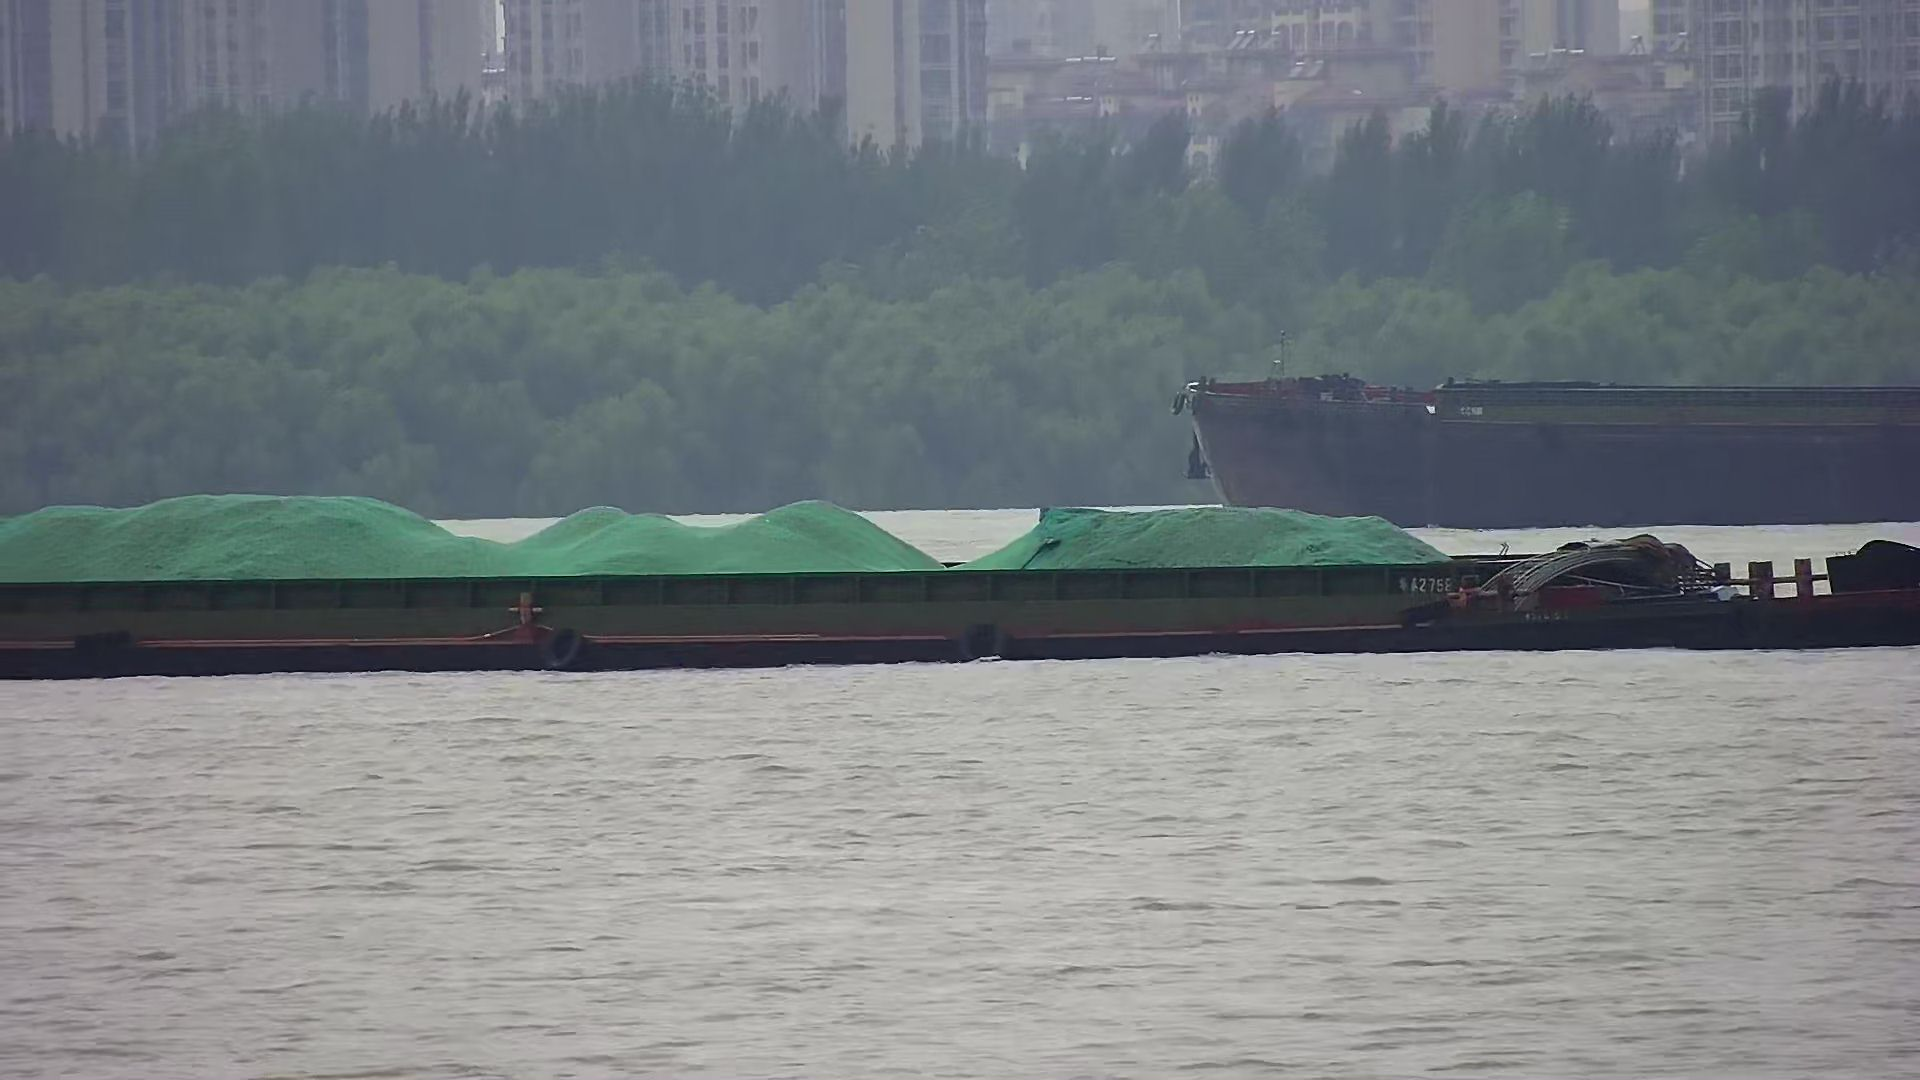ship: (1, 495, 1920, 680), (1172, 342, 1920, 527)
